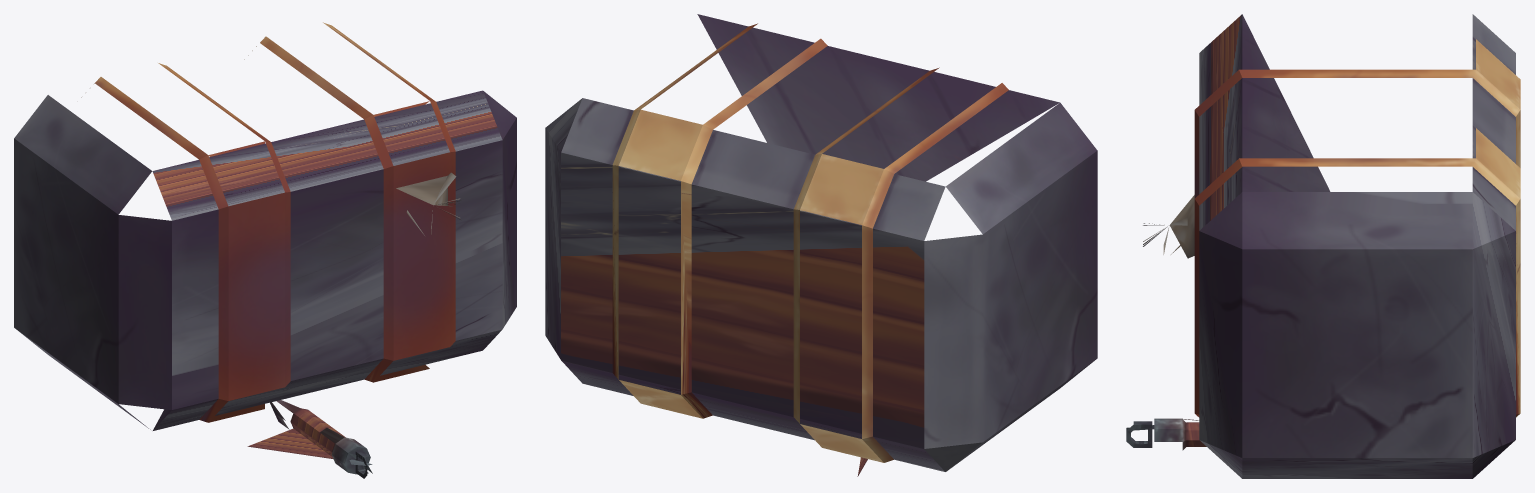
The model's file is hammer-2.gltf.
3 views of the same model, side by side, from view 1: azimuth 30°, elevation 25°; view 2: azimuth 150°, elevation 25°; view 3: azimuth 270°, elevation 25° (orthographic). The views are drawn at different scales.
Parts seen in each view (by area): view 1: __head, __headRings, __handle, __handleRings, __rivets; view 2: __head, __headRings; view 3: __head, __headRings, __rivets, __handleRings, __loop.
Part boxes in pixels (x1=…): __head: x1=14, y1=90, x2=516, y2=430; __headRings: x1=81, y1=22, x2=455, y2=422; __handle: x1=247, y1=408, x2=345, y2=458; __handleRings: x1=270, y1=400, x2=370, y2=474; __rivets: x1=396, y1=172, x2=460, y2=235; __head: x1=545, y1=14, x2=1097, y2=471; __headRings: x1=612, y1=23, x2=1008, y2=462; __head: x1=1199, y1=14, x2=1515, y2=478; __headRings: x1=1194, y1=39, x2=1520, y2=417; __rivets: x1=1143, y1=195, x2=1194, y2=258; __handleRings: x1=1154, y1=418, x2=1198, y2=450; __loop: x1=1126, y1=421, x2=1154, y2=447.
Size of the model in its own units: 3.2 by 2.68 by 2.49.
Materials: 1 (1 with a texture image).
